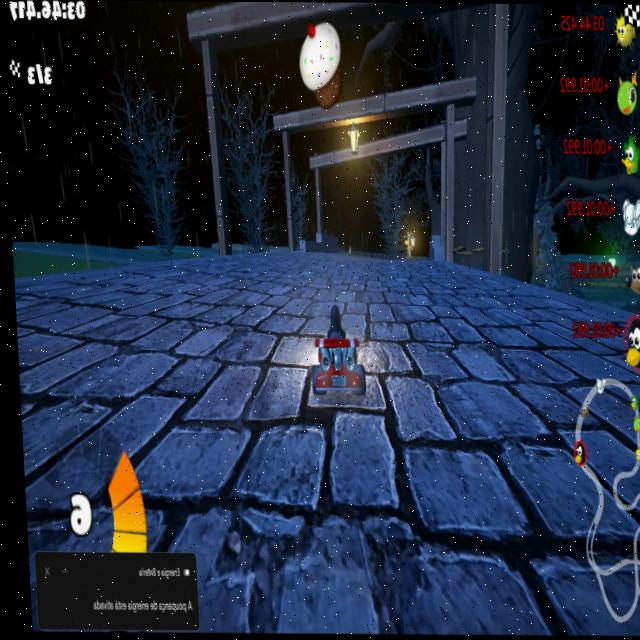player_kart: (307, 305, 370, 410)
track: (367, 301, 640, 638), (15, 295, 317, 554), (305, 408, 385, 636), (204, 248, 430, 295), (197, 557, 314, 634), (62, 247, 206, 287), (430, 269, 495, 304), (492, 277, 520, 303)
